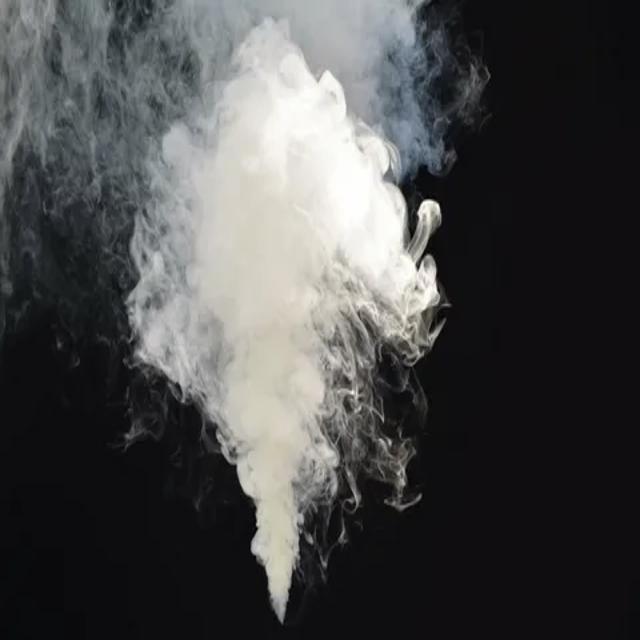Smoke: (119, 0, 492, 620)
